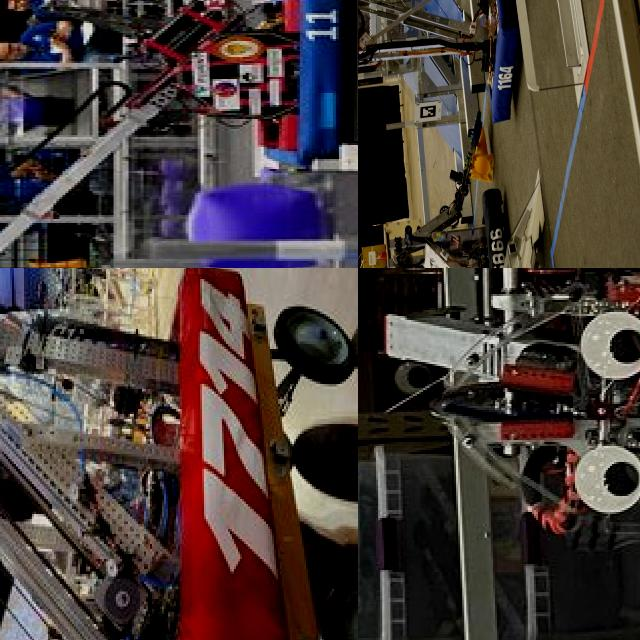FRC-Robots: (0, 268, 282, 640), (358, 268, 640, 640), (0, 0, 358, 268), (358, 0, 532, 103), (388, 151, 527, 268)
